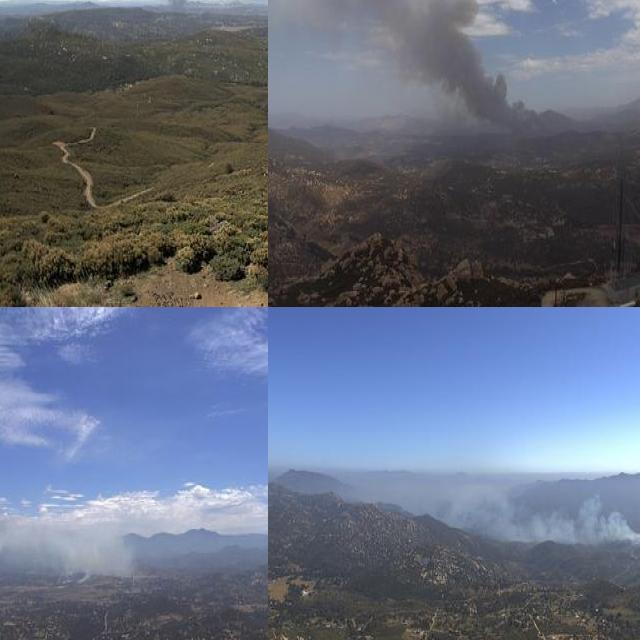smoke: (268, 0, 576, 142), (422, 453, 640, 550), (0, 498, 140, 582), (103, 0, 189, 16)
